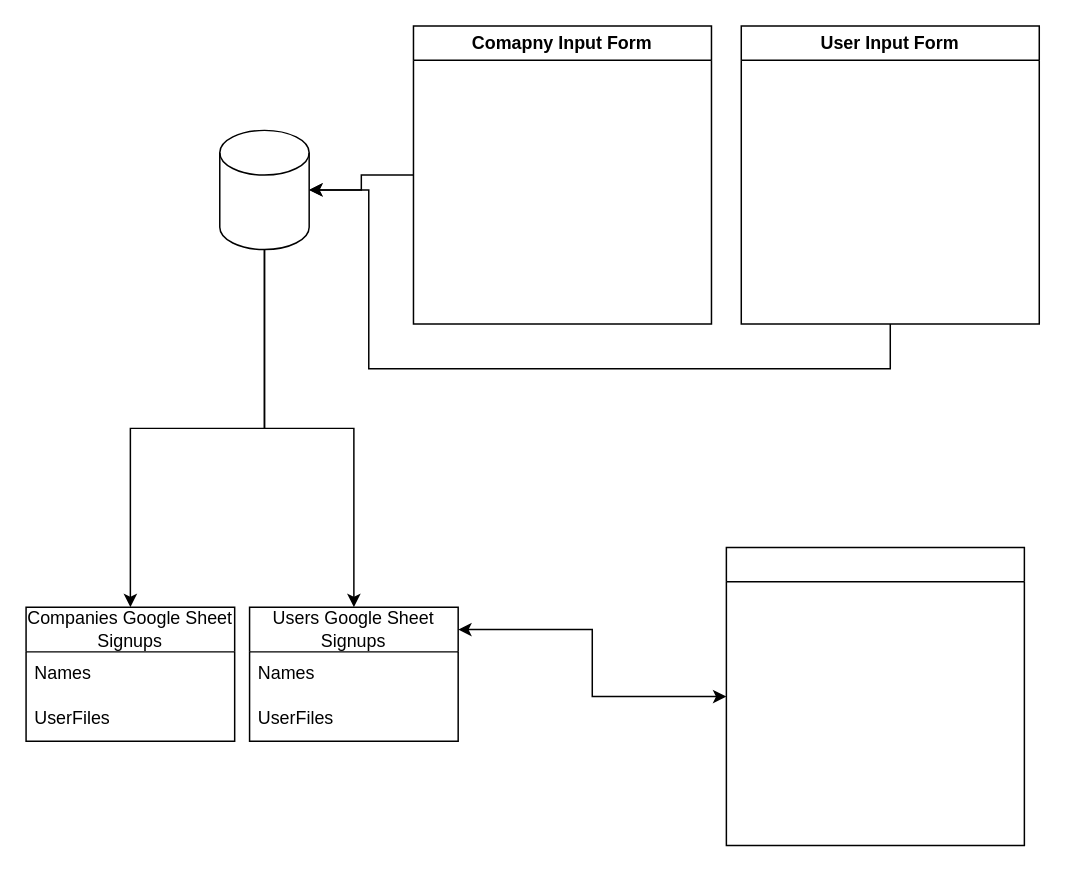
Some shapes in this 1065 by 872 pixel diagram are drawn without their labels. The centre of each missing label's shape, as x and y in pixels:
"Storage Files" goes at point 263,189.
"Website For User Management" goes at point 874,696.
